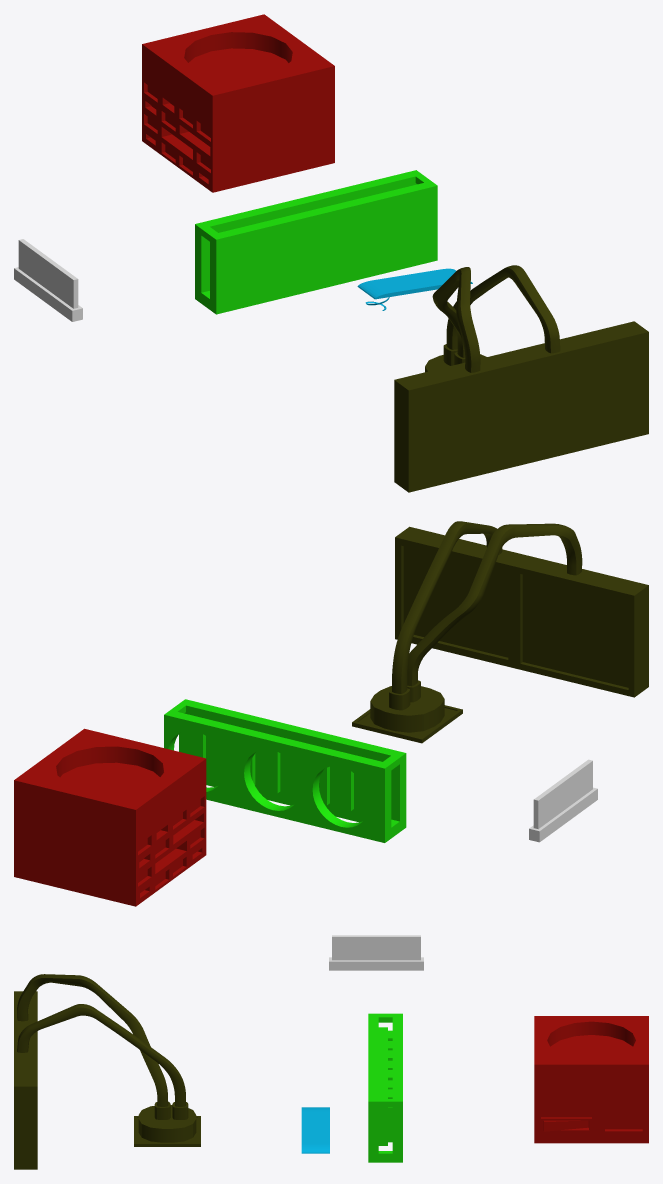
Rendered from LEVEL2MODELSTEXTUREDANDFIXED.fbx.
3 renders of one model, top to bottom at view 1: azimuth 30°, elevation 25°; view 2: azimuth 150°, elevation 25°; view 3: azimuth 270°, elevation 25°, orthographic. The views are drawn at different scales.
Visible parts, largest first — view 1: CPU AND COOLER.001, POWERSUPPLY, GPU.001, Cube.001, Cube; view 2: CPU AND COOLER.001, POWERSUPPLY, GPU.001, Cube.001; view 3: POWERSUPPLY, CPU AND COOLER.001, GPU.001, Cube.001, Cube.
Part boxes in pixels (x1=…): CPU AND COOLER.001: x1=394, y1=265, x2=648, y2=492; POWERSUPPLY: x1=142, y1=14, x2=334, y2=192; GPU.001: x1=195, y1=170, x2=437, y2=314; Cube.001: x1=14, y1=239, x2=82, y2=321; Cube: x1=357, y1=268, x2=472, y2=310; CPU AND COOLER.001: x1=352, y1=521, x2=648, y2=743; POWERSUPPLY: x1=14, y1=728, x2=206, y2=906; GPU.001: x1=164, y1=699, x2=406, y2=842; Cube.001: x1=529, y1=759, x2=597, y2=842; POWERSUPPLY: x1=534, y1=1016, x2=648, y2=1143; CPU AND COOLER.001: x1=14, y1=974, x2=200, y2=1169; GPU.001: x1=368, y1=1013, x2=402, y2=1162; Cube.001: x1=329, y1=935, x2=423, y2=970; Cube: x1=301, y1=1107, x2=329, y2=1153.
Bounding box in the file's own units: 2619 × 1067 × 4487.
